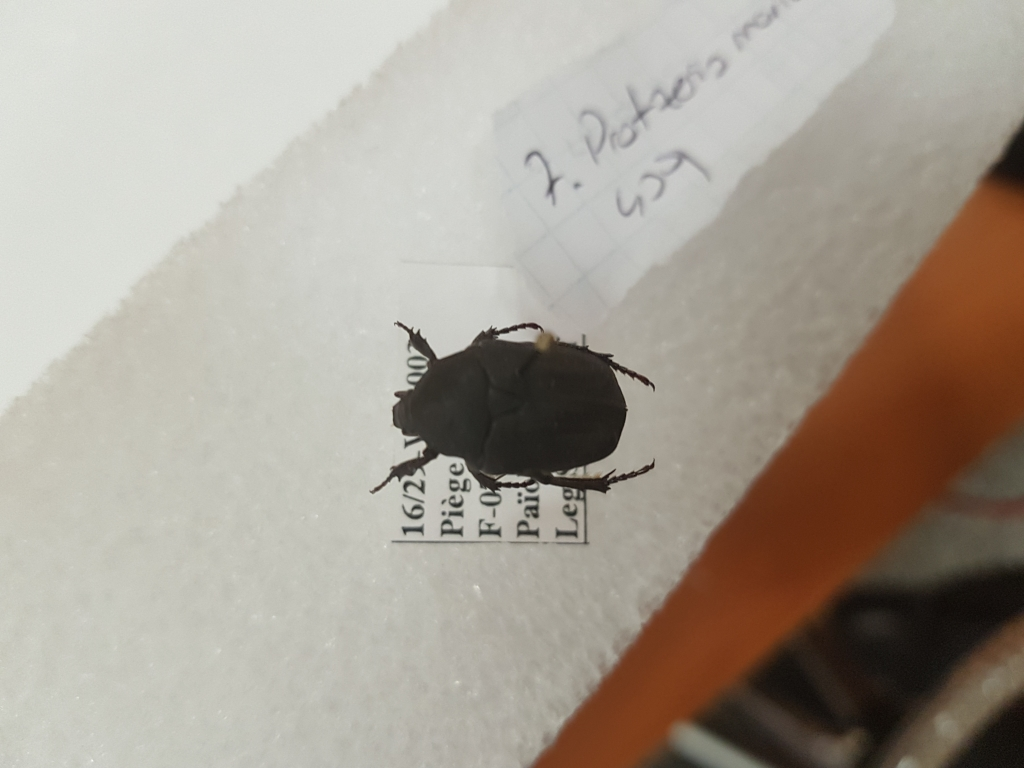Protaetia_morio_morio: (371, 312, 669, 507)
